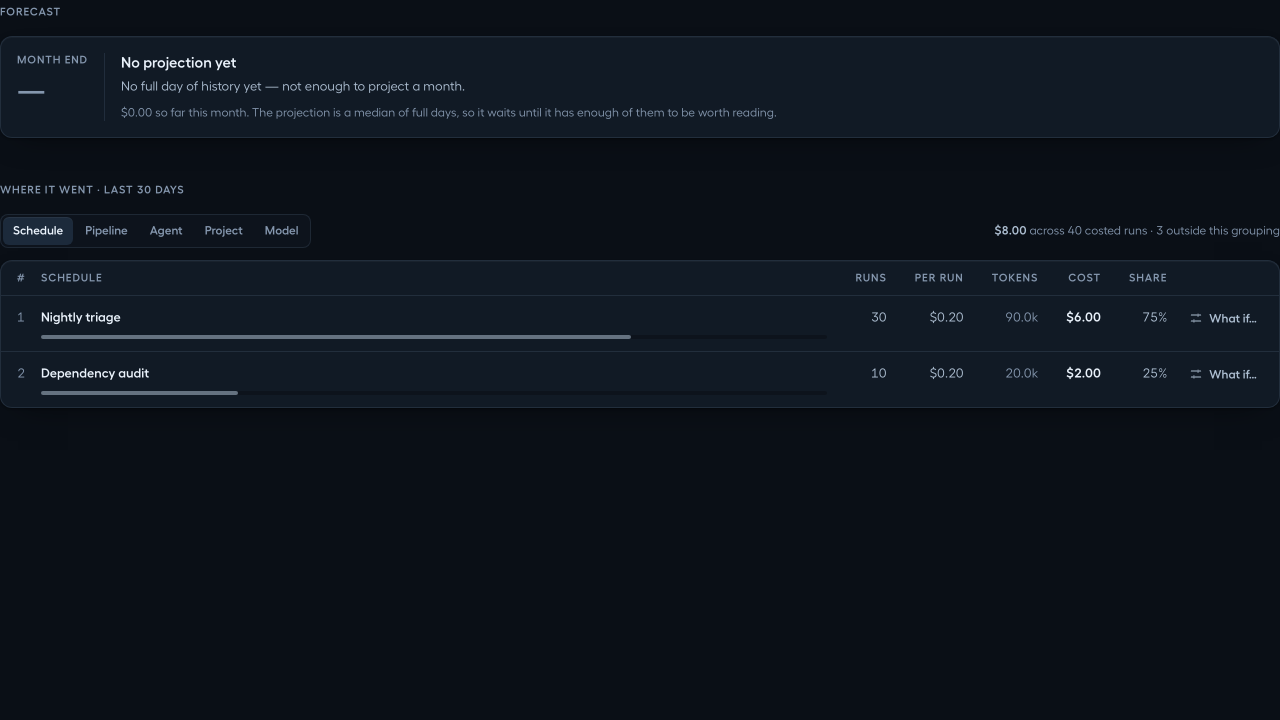
Scenario: LedgerPanels › a completed simulation shows the headline and says whether quality was measured
What coordinates should you click on to do the following:
click the button "What if…" in the row of "Nightly triage"
I would click on:
 (1223, 318)
Its box is [1179,304,1267,332].
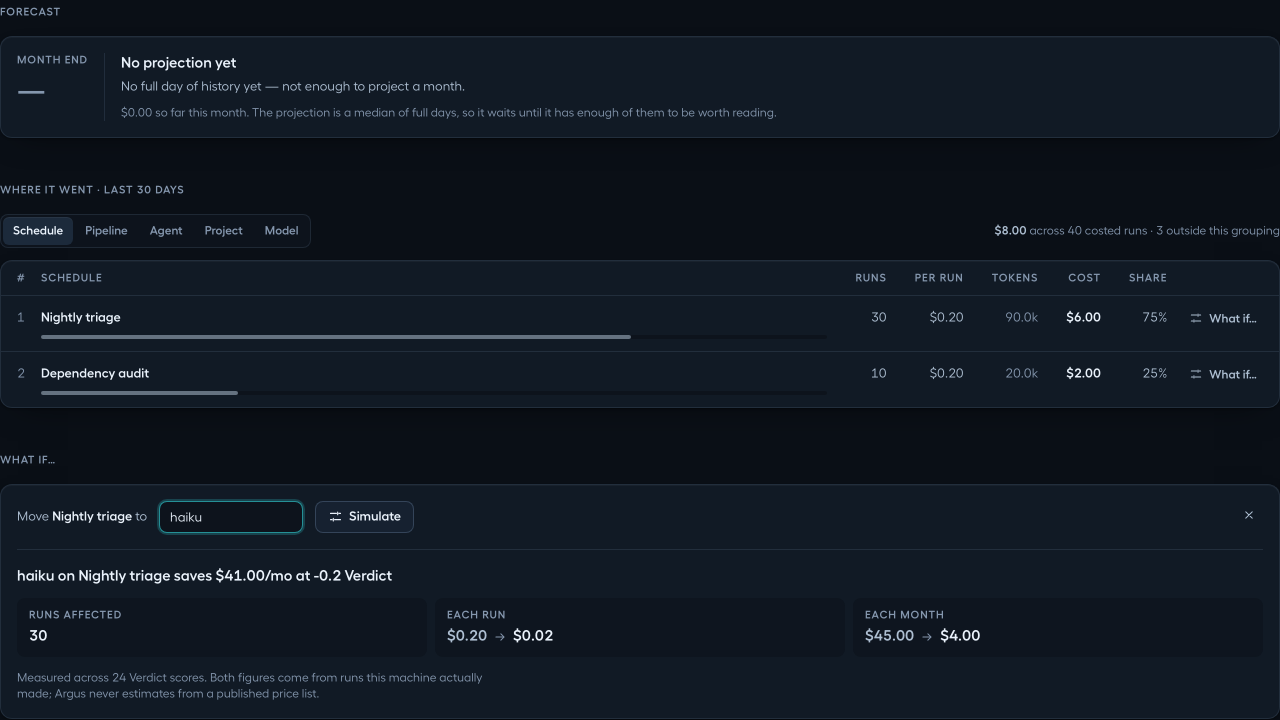
Now the text "haiku on Nightly triage saves $41.00/mo at -0.2 Verdict" is shown, box [17,568,392,583]
Now the text "Measured across 24 Verdict scores" is shown, box [17,671,207,683]
Now the text "never estimates from a published price list" is shown, box [17,671,482,700]
